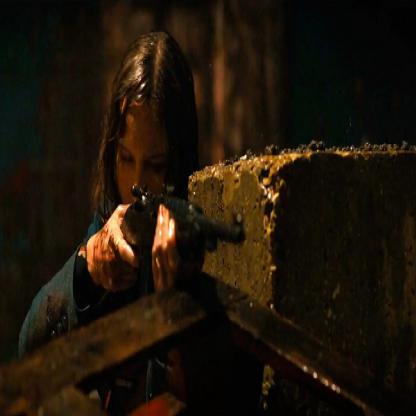Gun: (111, 181, 247, 316)
